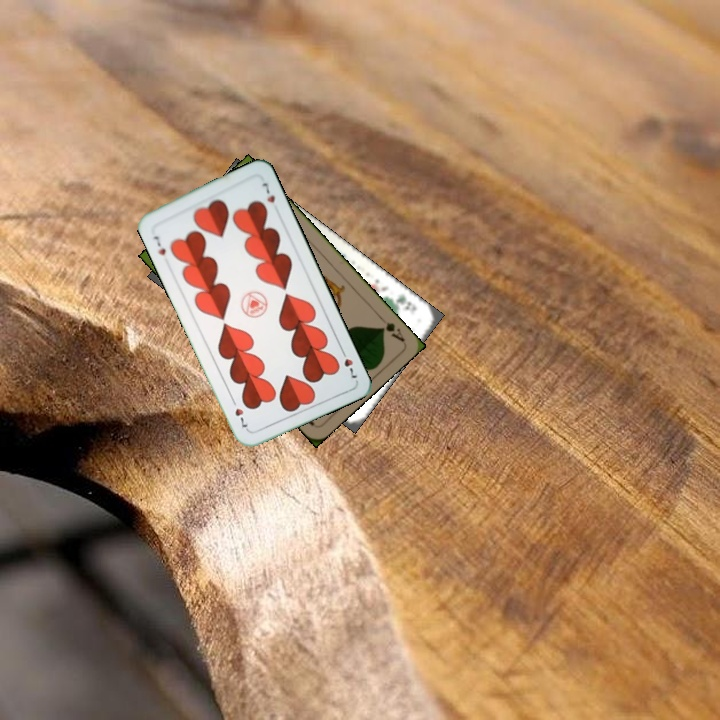GA: (374, 311, 407, 344)
GK: (386, 290, 419, 317)
H7: (336, 344, 360, 383), (149, 232, 168, 258)
